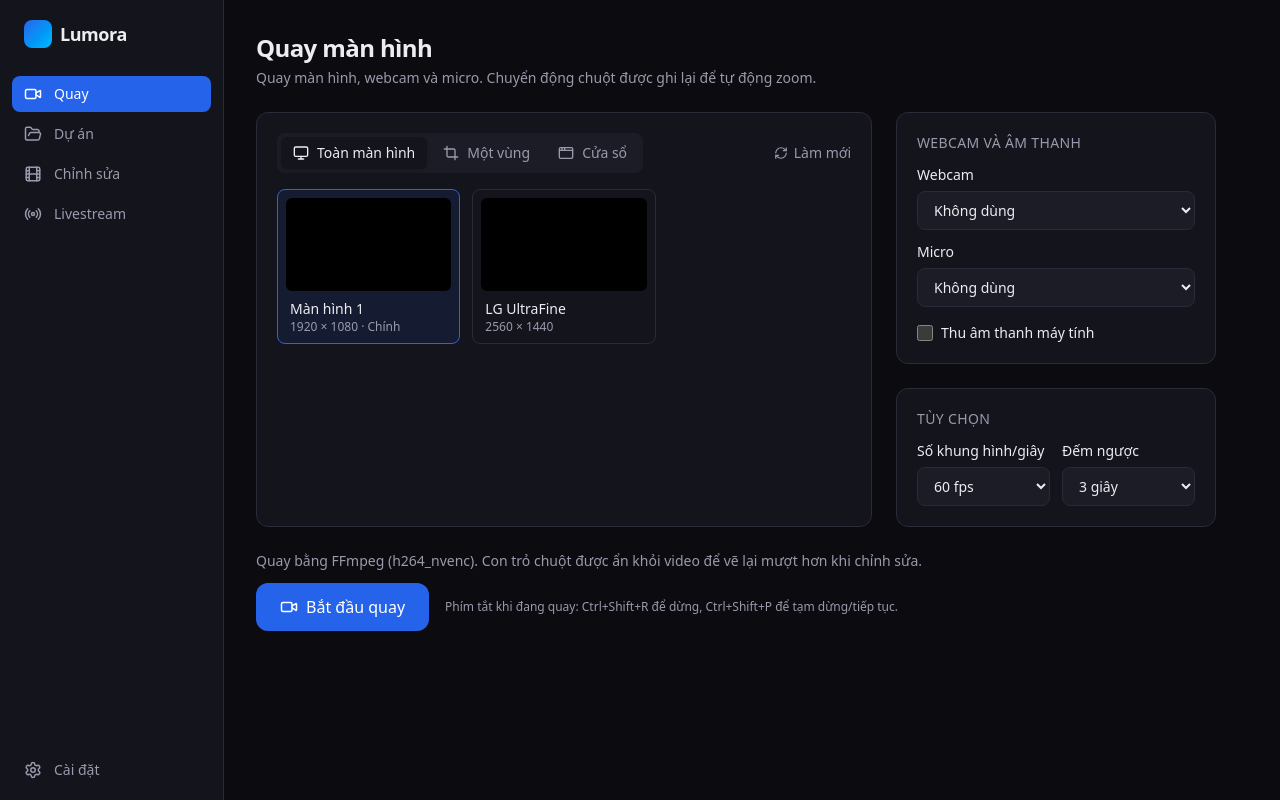
Test case: App › chuyển trang khi bấm menu
Expected: the button with test id "nav-record" is shown, x1=12 y1=76 x2=211 y2=112
Click the button with test id "nav-projects": (112, 134) x1=12 y1=116 x2=211 y2=152
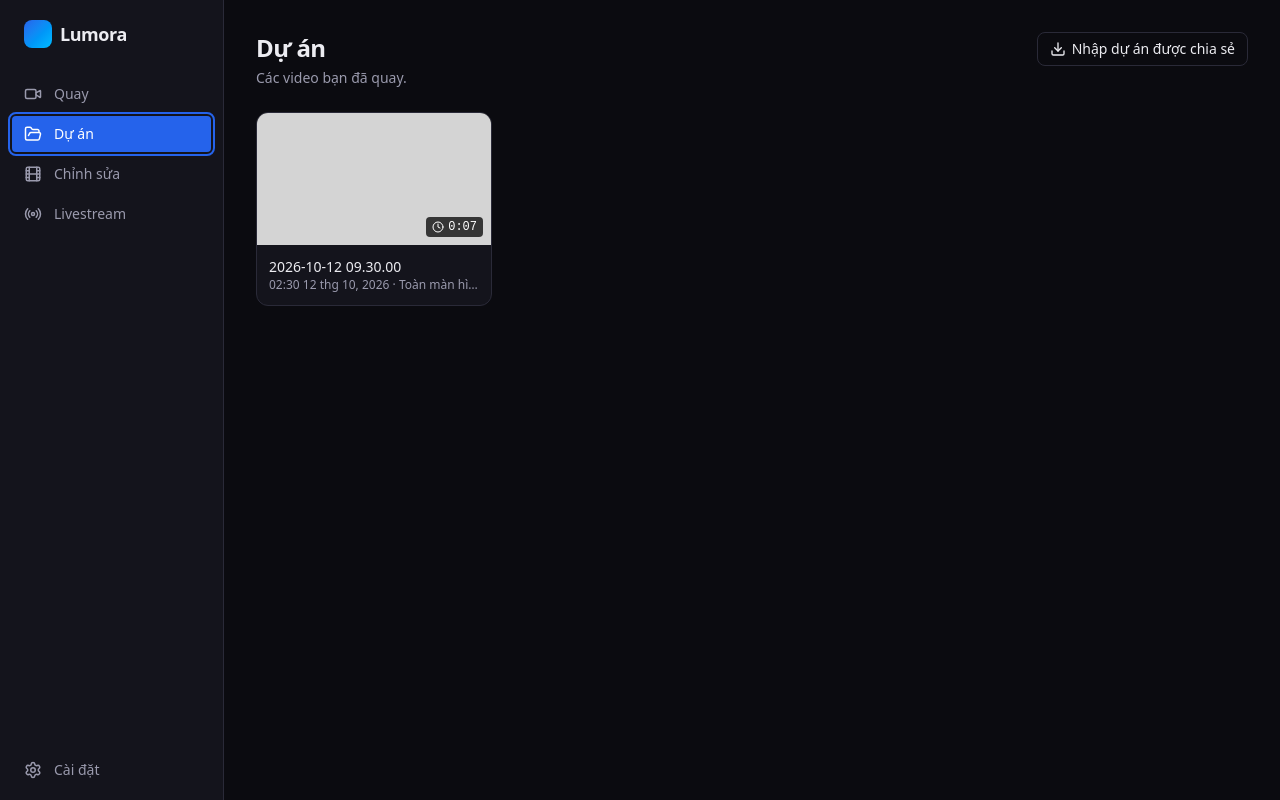
Now the heading "Dự án" is shown, box x1=256 y1=31 x2=326 y2=64
